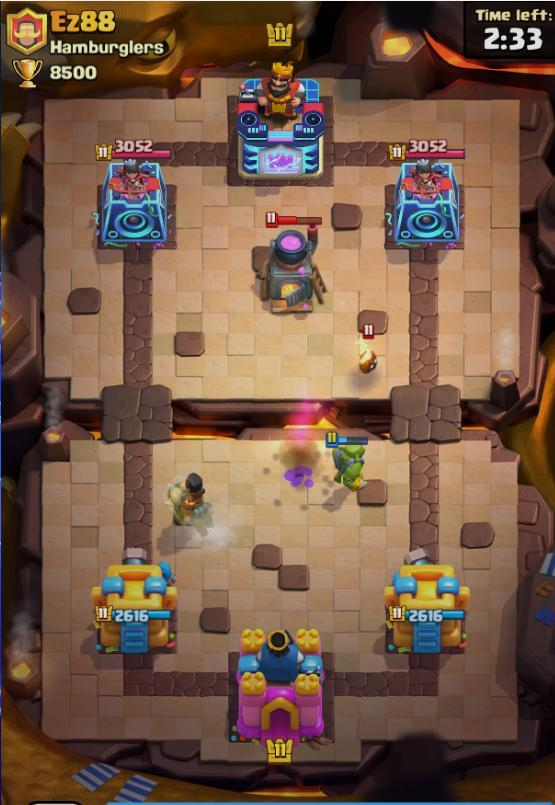OCannoneerTower: (387, 543, 472, 655), (96, 543, 180, 656)
ORamrider: (165, 469, 220, 540)
